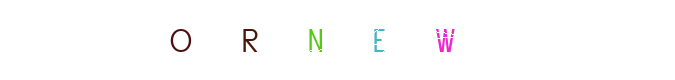E: (297, 0, 377, 80)
N: (276, 0, 356, 80)
O: (175, 0, 255, 80)
R: (262, 0, 342, 80)
W: (405, 0, 485, 80)
